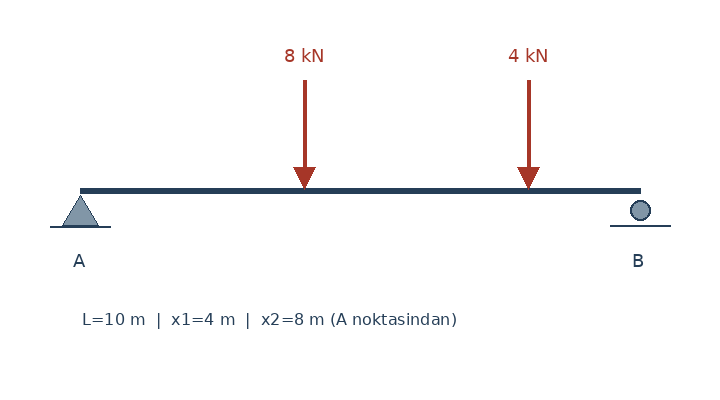pin_support: (61, 190, 99, 226)
point_load: (290, 76, 318, 190), (514, 76, 542, 190)
roller_support: (625, 196, 655, 227)
